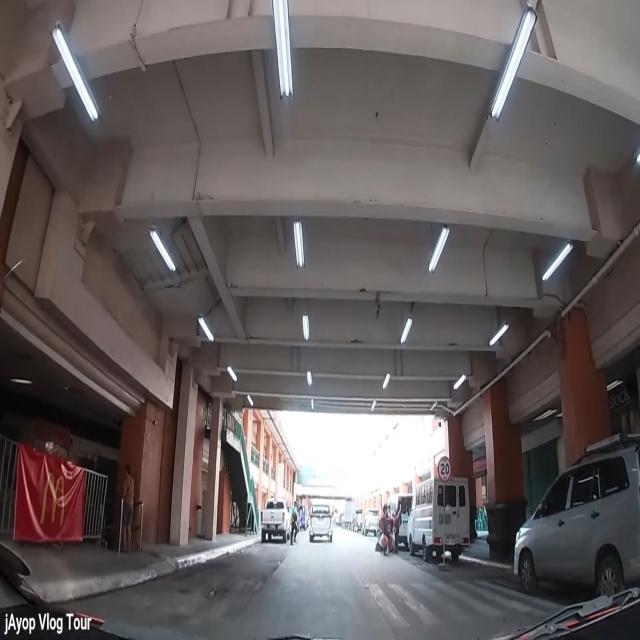car: (512, 437, 640, 600), (387, 494, 414, 548), (261, 498, 290, 544), (309, 502, 333, 542), (360, 509, 380, 537)
truck: (407, 476, 470, 562), (340, 500, 360, 529)
